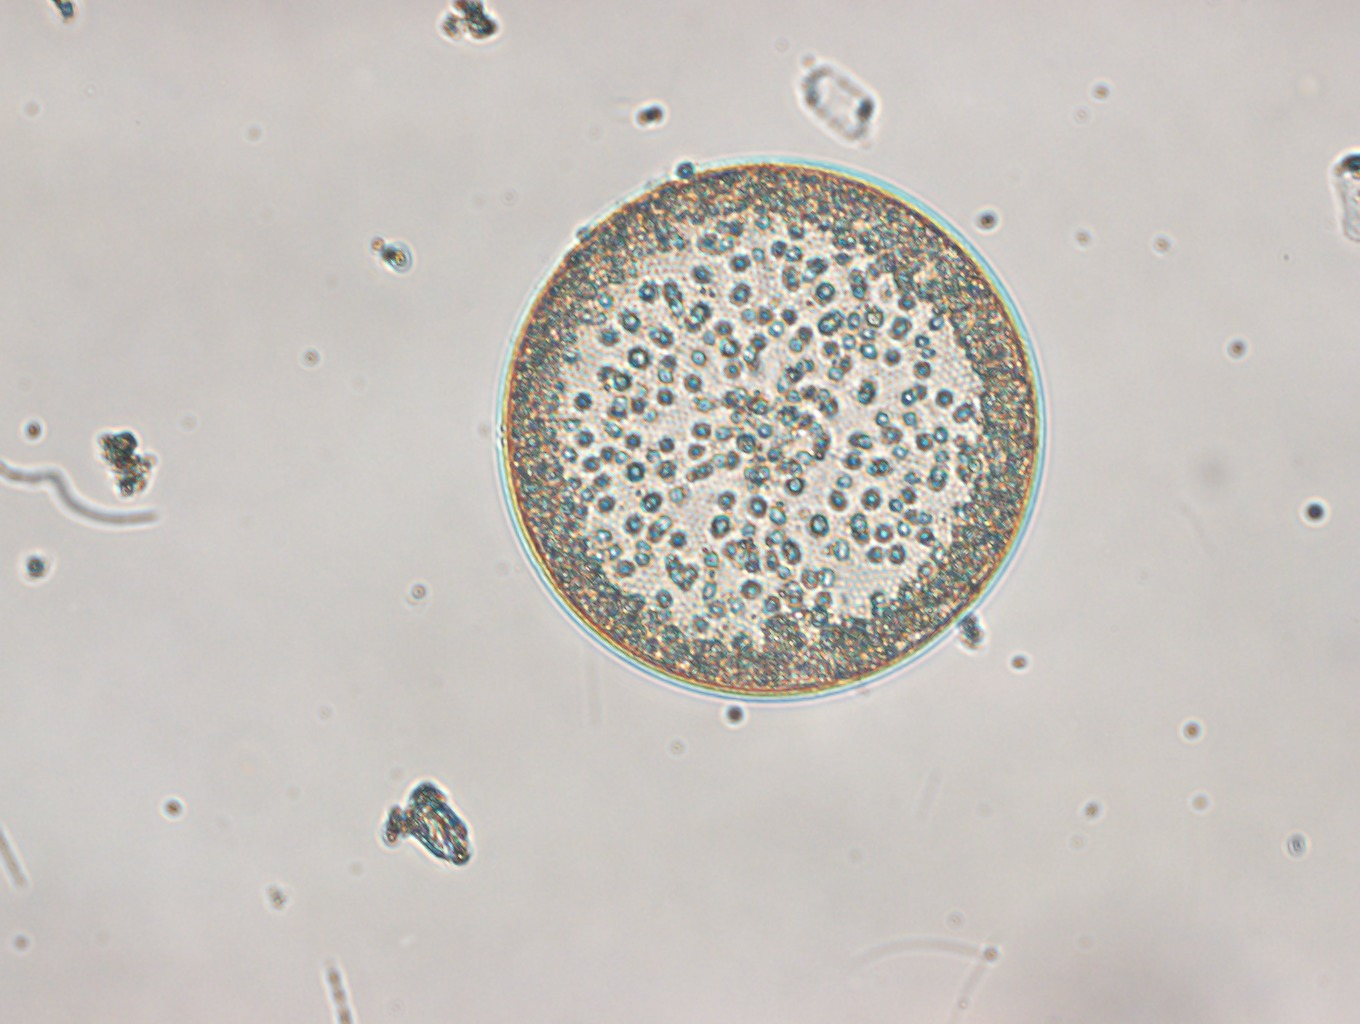coscinodiscus: (496, 155, 1044, 703)
